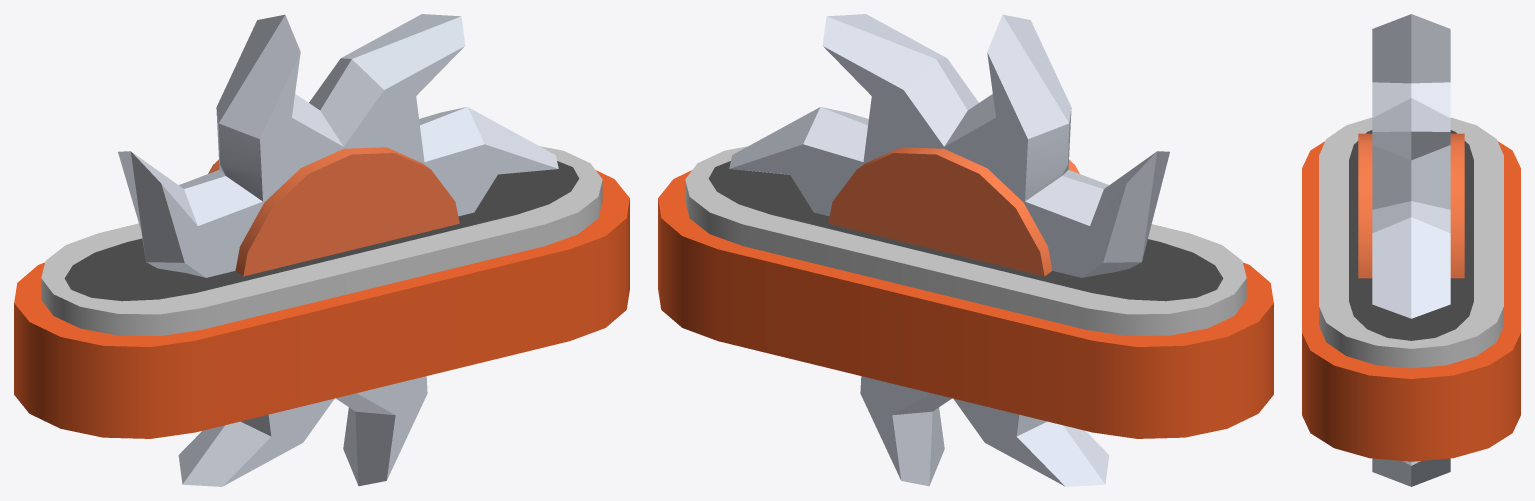
The model's file is Saw D.fbx.
3 renders of one model, left to right at view 1: azimuth 30°, elevation 25°; view 2: azimuth 150°, elevation 25°; view 3: azimuth 270°, elevation 25°, orthographic. The views are drawn at different scales.
Visible parts, largest first — view 1: Saw D Stand, Saw D; view 2: Saw D Stand, Saw D; view 3: Saw D Stand, Saw D.
Boxes of the visible parts, bbox=[...] form: Saw D Stand: bbox=[14, 146, 629, 438]; Saw D: bbox=[118, 14, 558, 486]; Saw D Stand: bbox=[658, 146, 1273, 438]; Saw D: bbox=[729, 14, 1169, 486]; Saw D Stand: bbox=[1302, 117, 1520, 461]; Saw D: bbox=[1358, 14, 1464, 486].
Bounding box in the file's own units: 194 × 155 × 69.68.
